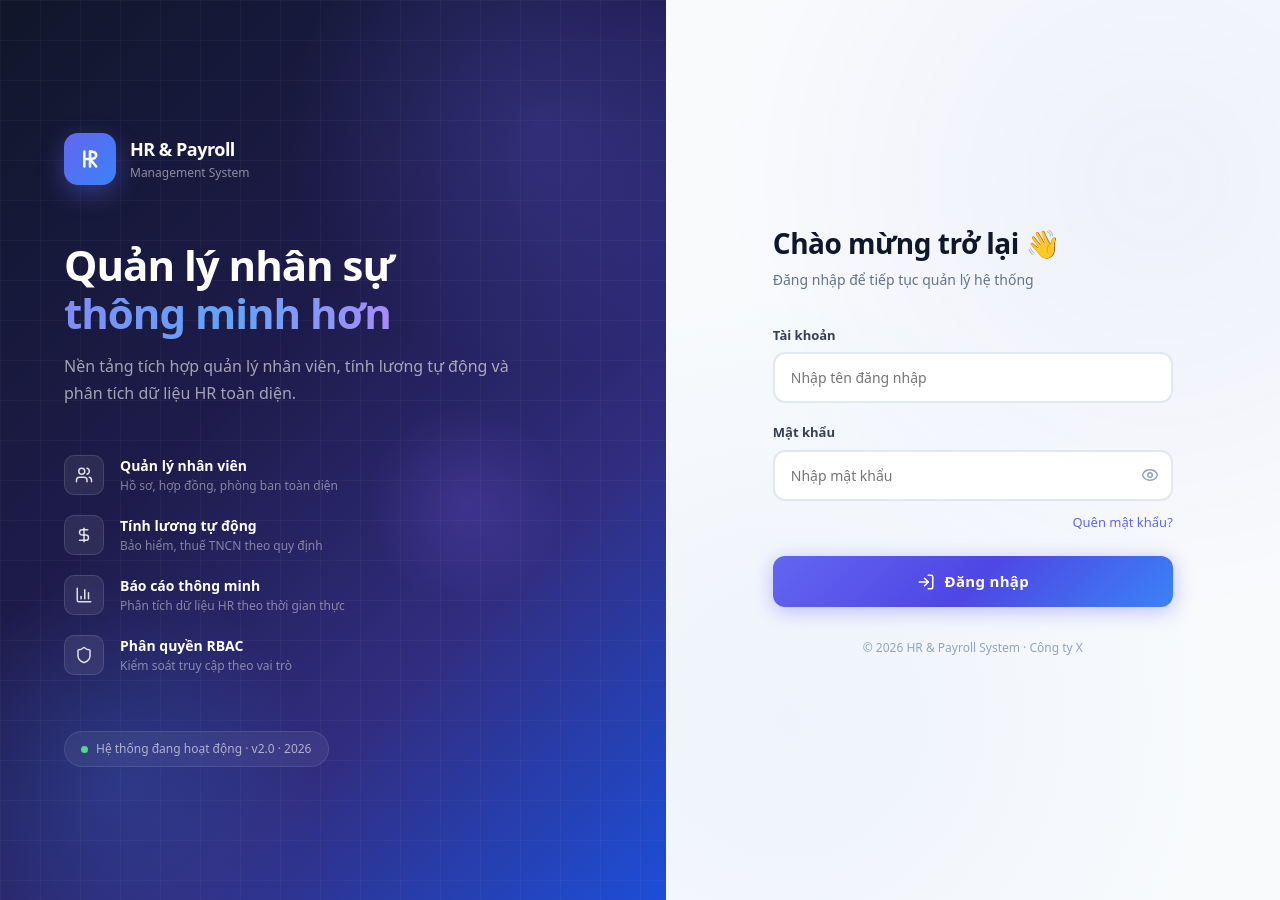
Form validation › submit rỗng → hiện lỗi, không gọi login
Click the button "Đăng nhập" at x=973, y=582, box [773, 556, 1173, 607]
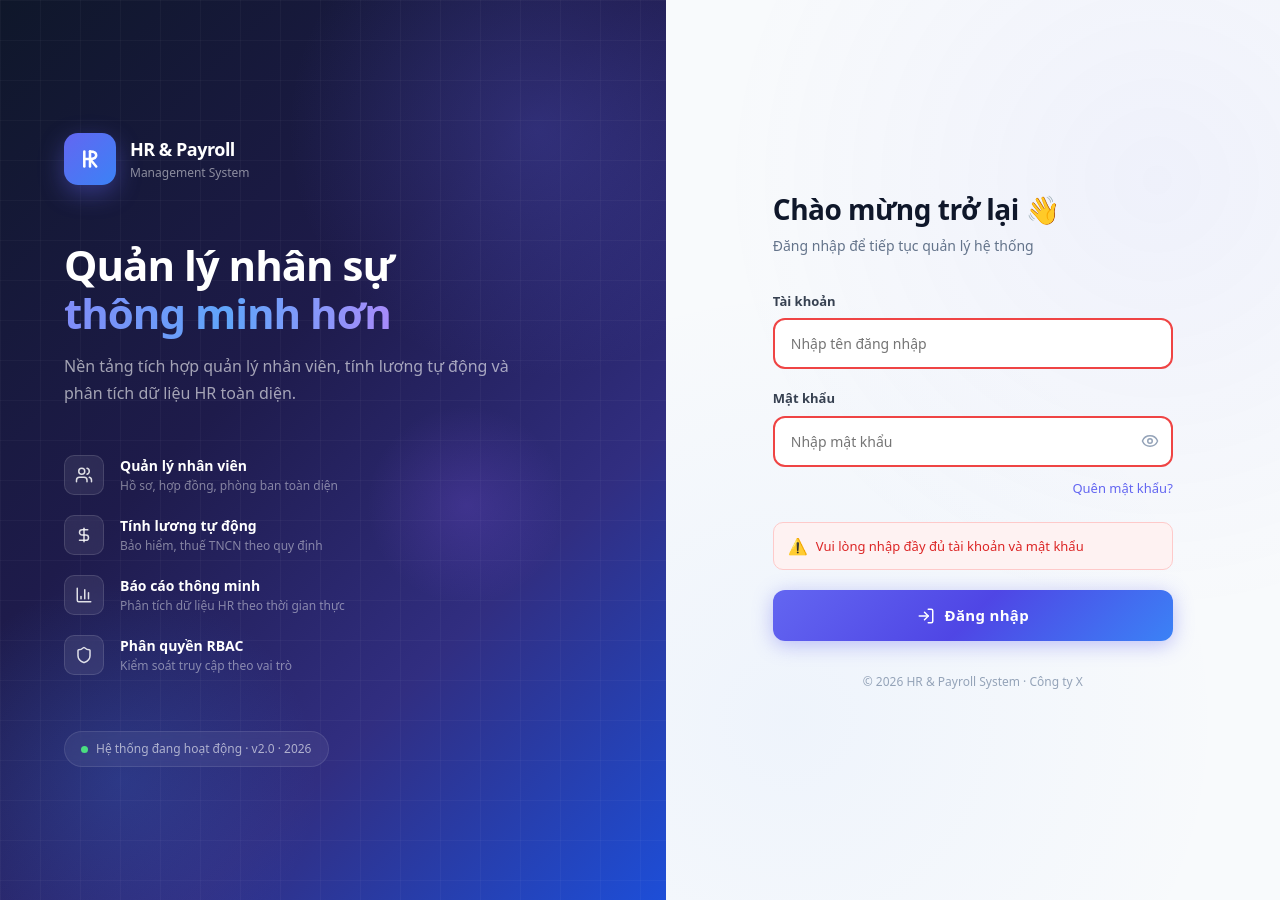
Result: the text "⚠️ Vui lòng nhập đầy đủ tài khoản và mật khẩu" is shown at [773, 522, 1173, 570]
